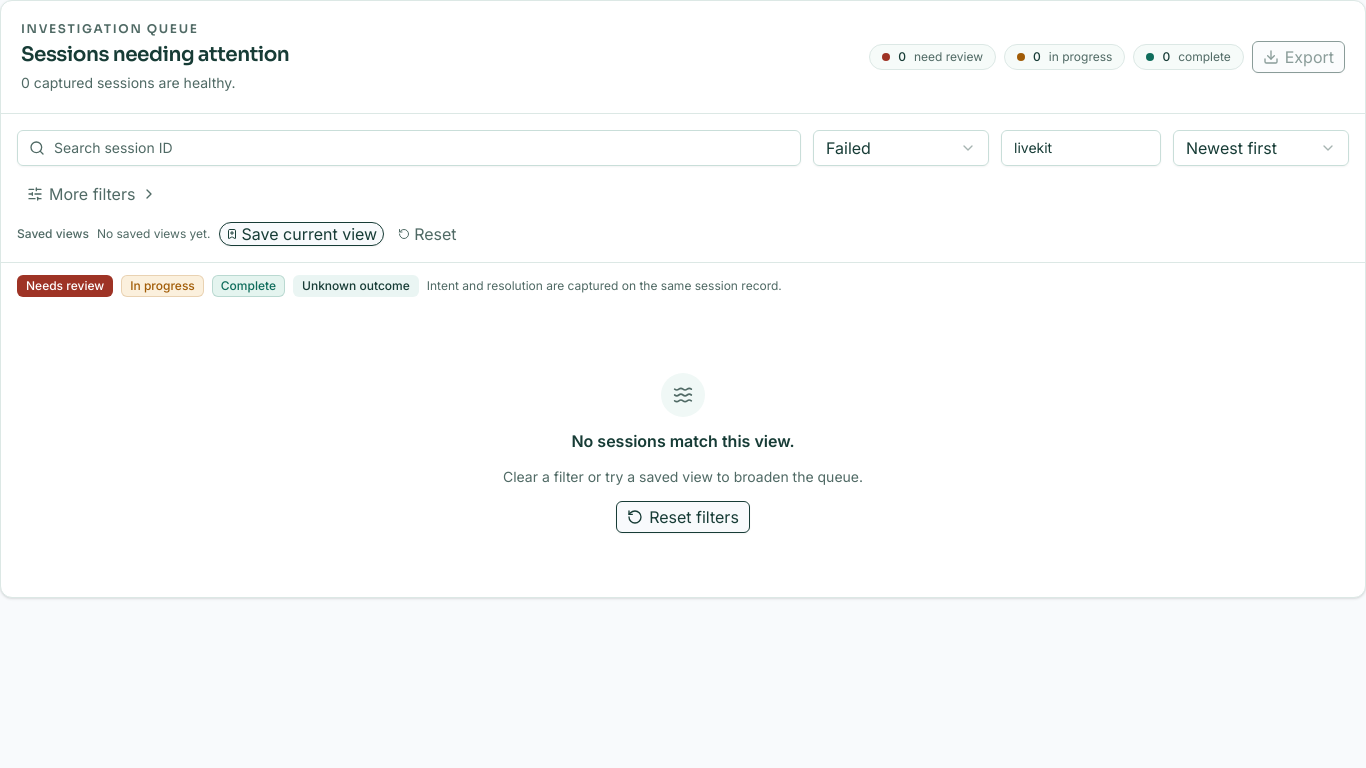
Test: saves and removes a view named from its active filters
Click the button "Save current view" at [301, 234], box [218, 222, 384, 246]
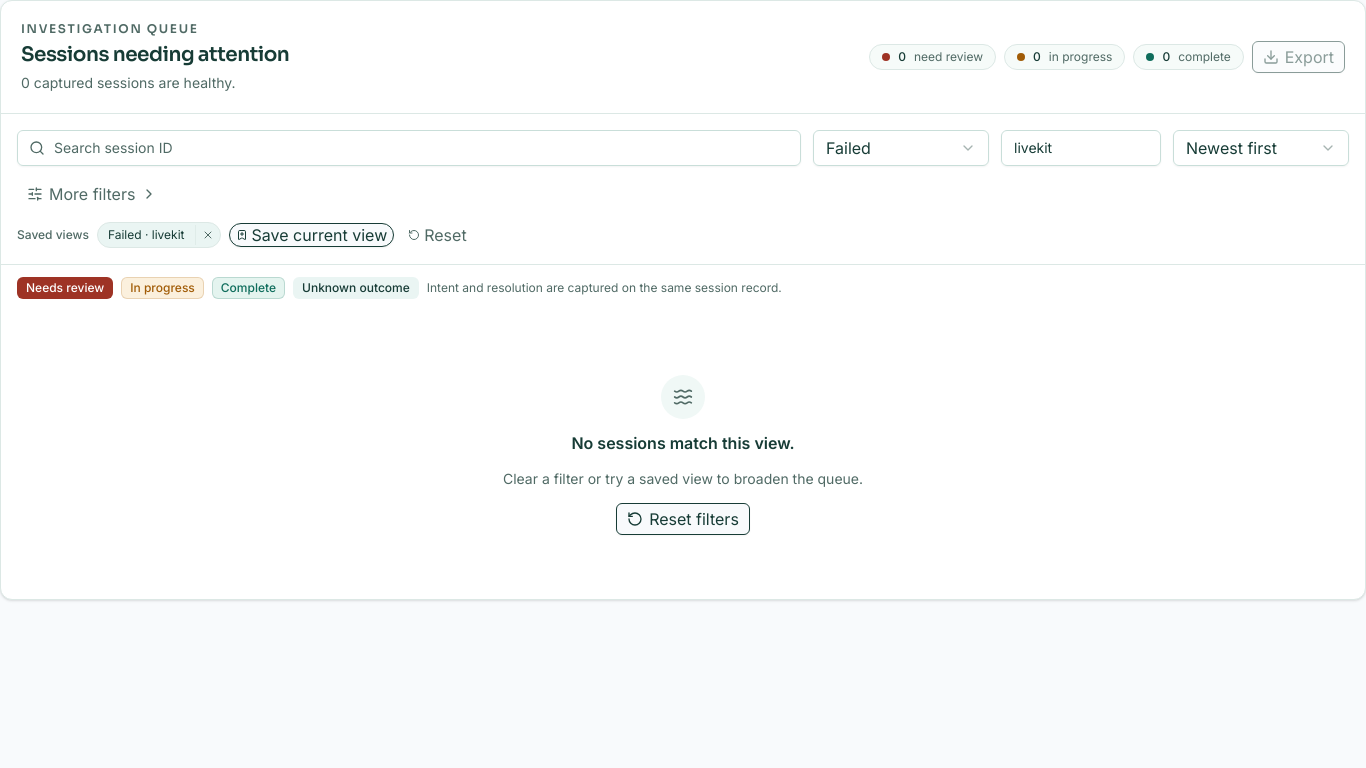
Now the button "Failed · livekit" is shown, box [98, 222, 194, 246]
Click the button named "remove saved view failed · livekit" at [207, 234], box [194, 224, 220, 244]
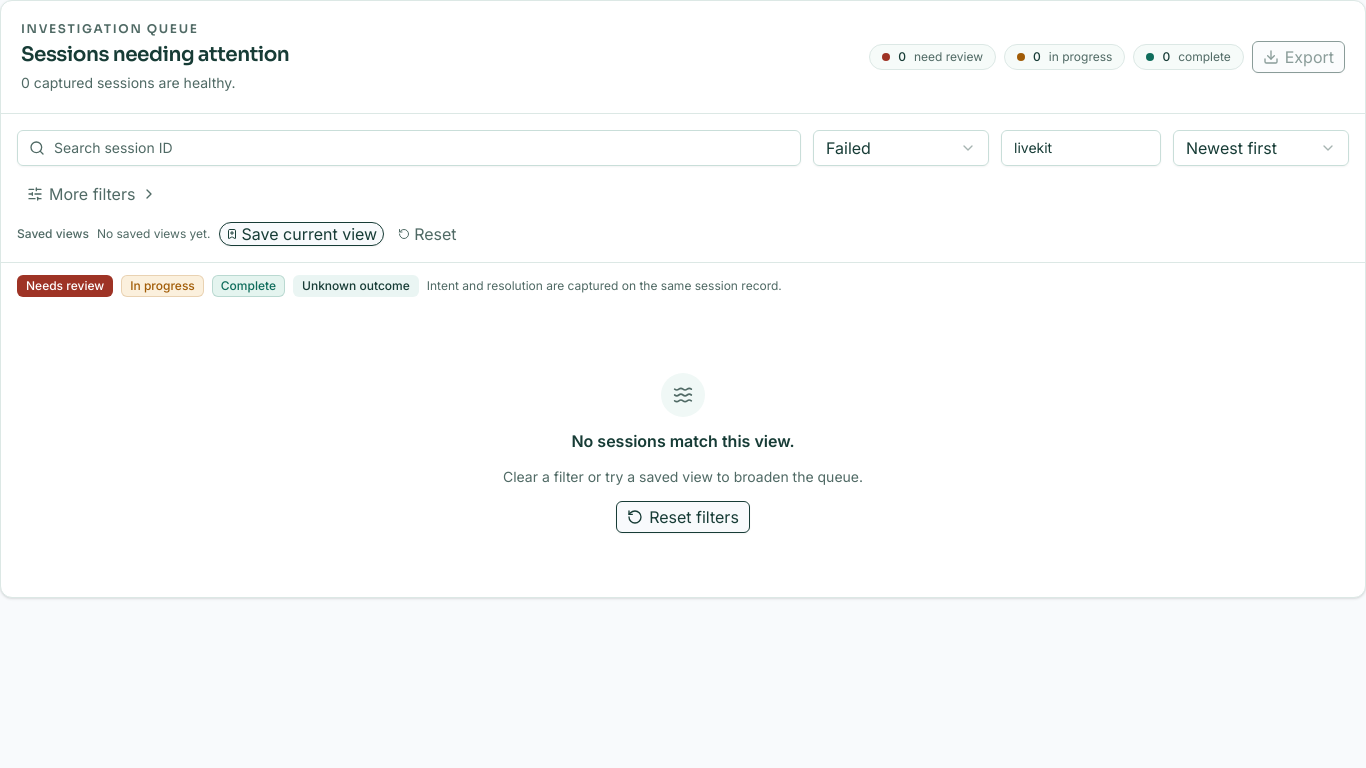
Now the button "Failed · livekit" is gone
Now the text "No saved views yet." is shown, box [97, 226, 210, 242]
